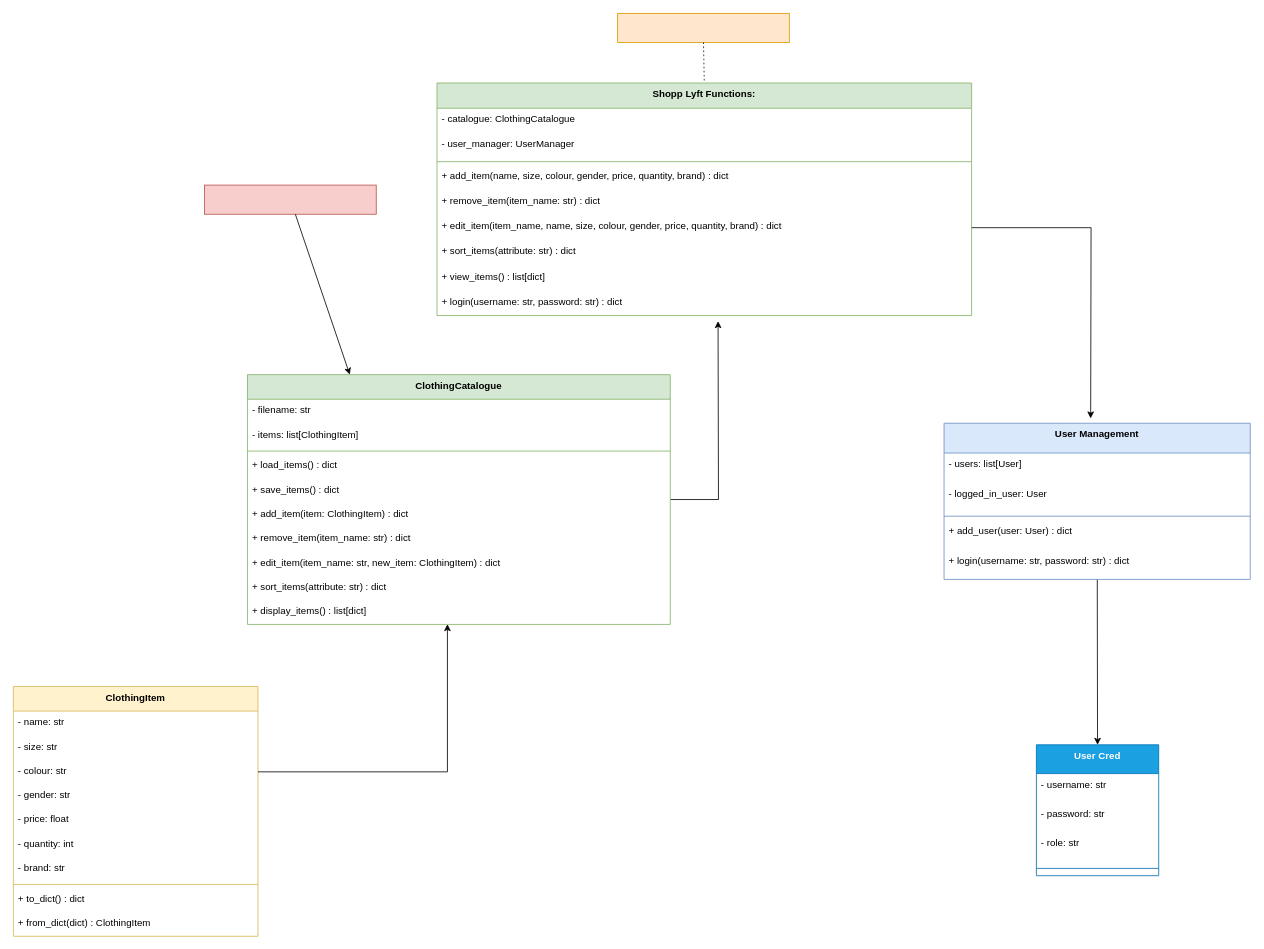
Image size: 1264x949. Some labels were removed from this diagram. The centre of each missing label's shape, as x and y in pixels:
BACKEND LOGIC: pixel 703 28
Ineventory Management: pixel 290 199
